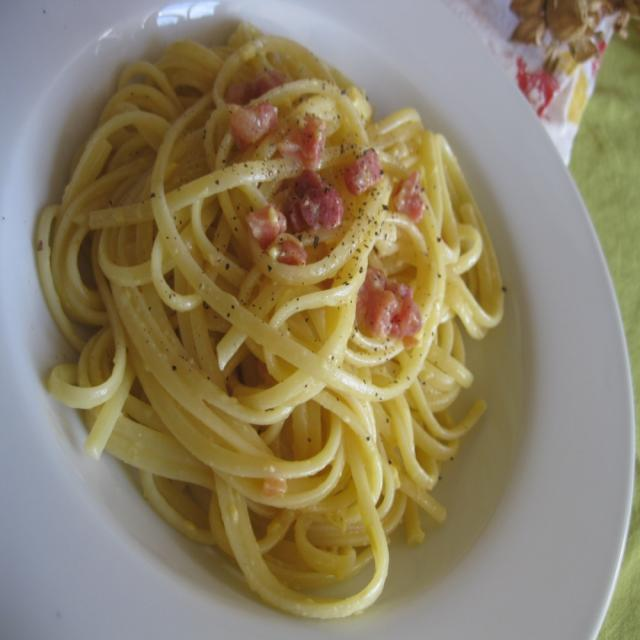Pasta with carbonara sauce: (34, 9, 503, 625)
